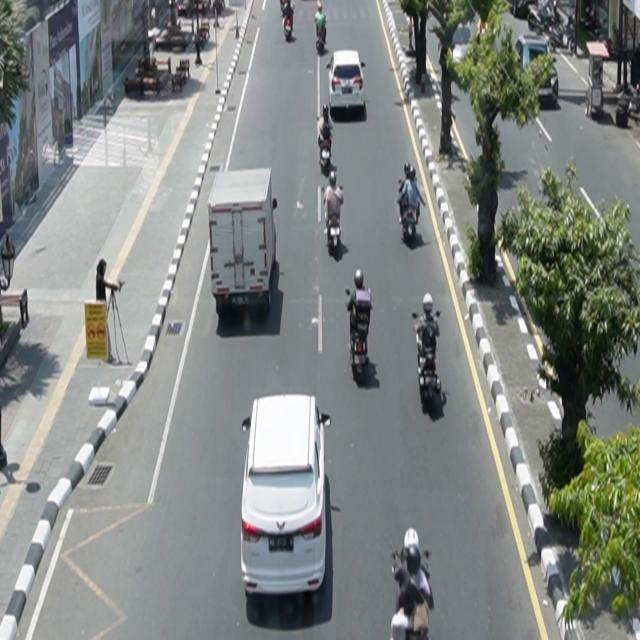car: (241, 393, 332, 598), (326, 50, 367, 116)
truck: (208, 168, 278, 319)
